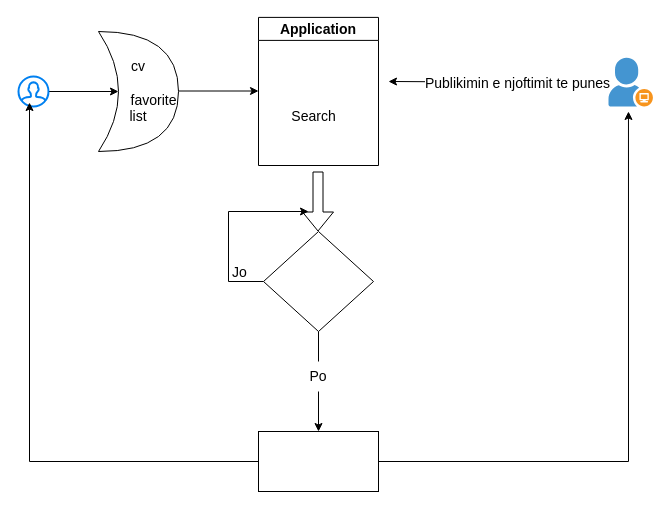
The diagram is 670 pixels wide and 510 high, and some of its shapes have lost their labels. Here are the shapes that lost their labels. From the top down, the centre of each, then its label:
At (318,281): "behet match cv-post pune".
At (318,461): "Notification".
